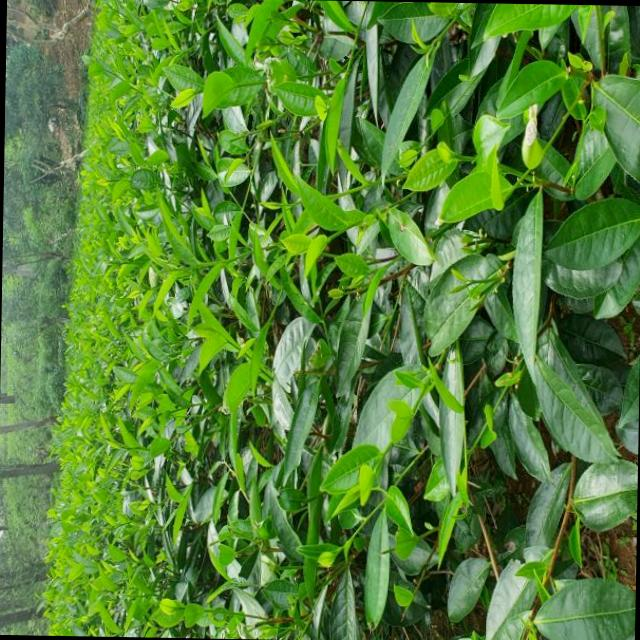Stem: (329, 229, 340, 240), (462, 156, 475, 162), (203, 261, 214, 266), (472, 280, 484, 283), (228, 342, 235, 347), (370, 181, 378, 185), (371, 268, 377, 272), (127, 447, 133, 451)
